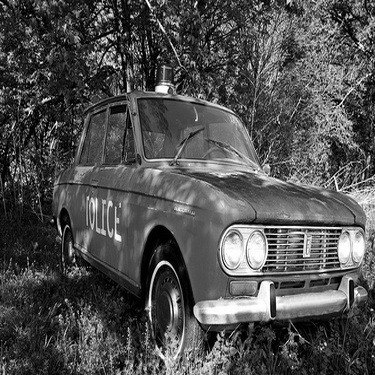car: (39, 46, 371, 319)
